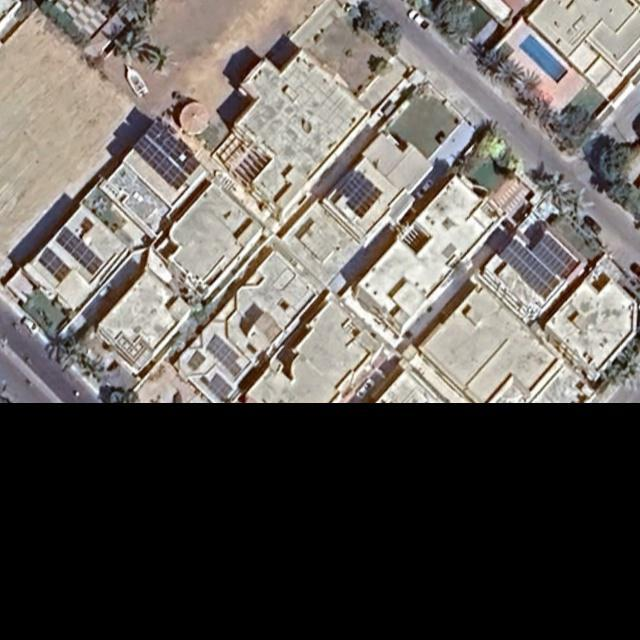solar panel: (499, 239, 561, 301), (147, 120, 201, 175), (134, 137, 188, 190), (56, 227, 104, 274), (340, 170, 383, 219), (532, 233, 573, 276), (206, 334, 243, 376), (39, 246, 71, 283), (199, 374, 234, 402), (187, 351, 207, 372)
